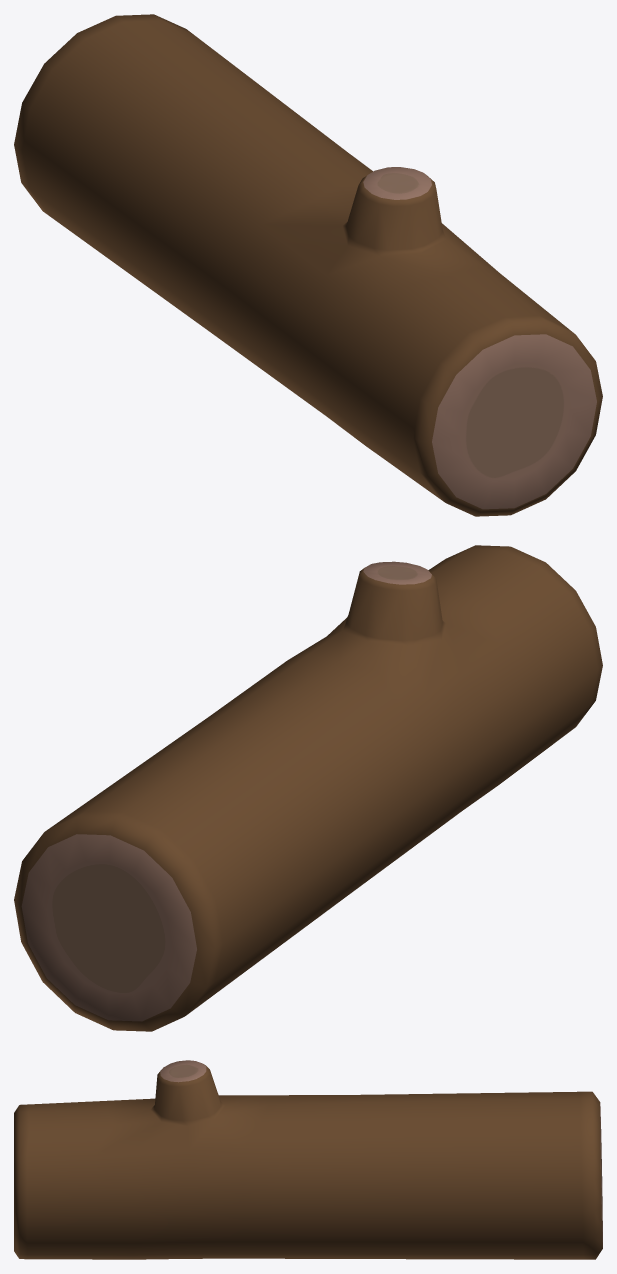
File: fallen-log-sm.fbx
3 renders of one model, top to bottom at view 1: azimuth 30°, elevation 25°; view 2: azimuth 150°, elevation 25°; view 3: azimuth 270°, elevation 25°, orthographic. The views are drawn at different scales.
Visible parts, largest first — view 1: fallen-log-small; view 2: fallen-log-small; view 3: fallen-log-small.
Part boxes in pixels (x1,y1,x2,y2): fallen-log-small: [14, 14, 602, 516]; fallen-log-small: [14, 545, 602, 1031]; fallen-log-small: [14, 1060, 602, 1259].
Bounding box in the file's own units: 0.8528 × 1.02 × 2.98.
